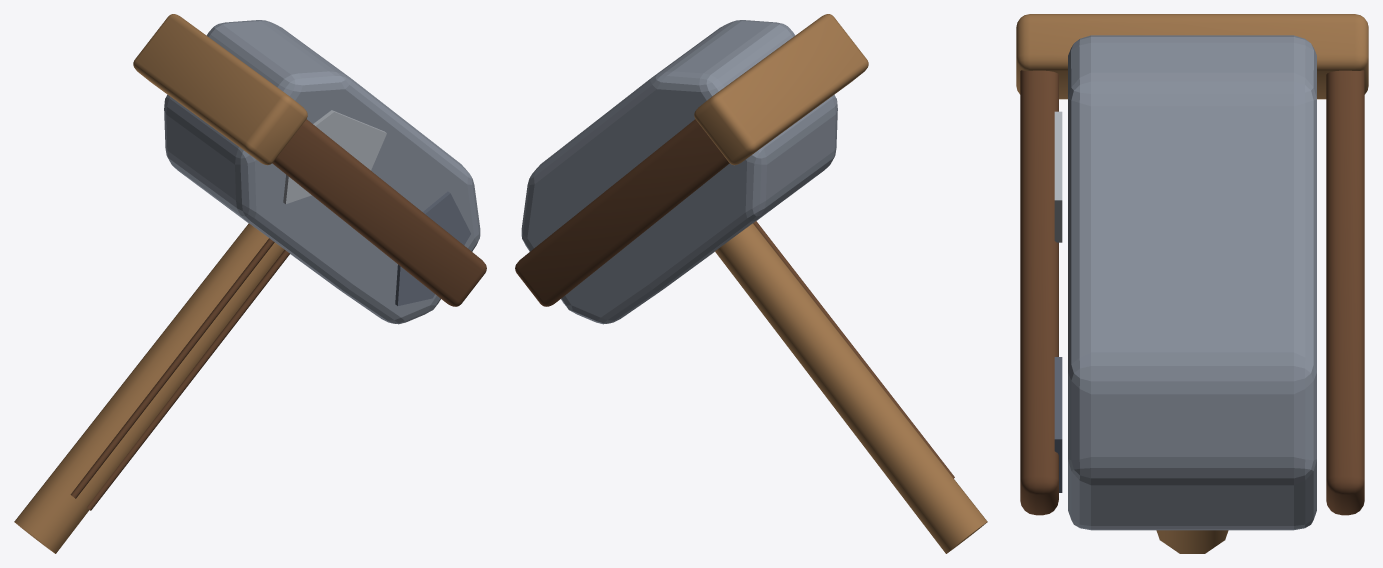
The model's file is stonehammer.glb.
The picture shows the model from 3 angles, left to right: view 1: azimuth 30°, elevation 25°; view 2: azimuth 150°, elevation 25°; view 3: azimuth 270°, elevation 25°; orthographic projection. The views are drawn at different scales.
Parts seen in each view (by area): view 1: _stone-head_0, _oak-clamp_0, _oak-shaft_0; view 2: _stone-head_0, _oak-clamp_0, _oak-shaft_0; view 3: _stone-head_0, _oak-clamp_0, _oak-shaft_0.
Boxes of the visible parts, x1,y1,x2,y2 form: _stone-head_0: (164,20,480,324); _oak-clamp_0: (133,14,486,306); _oak-shaft_0: (14,223,289,553); _stone-head_0: (521,20,837,324); _oak-clamp_0: (515,14,868,306); _oak-shaft_0: (715,221,987,553); _stone-head_0: (1054,35,1316,530); _oak-clamp_0: (1016,14,1368,515); _oak-shaft_0: (1156,530,1228,553).
Size of the model in its own units: 1.05 by 1.07 by 0.5125.
